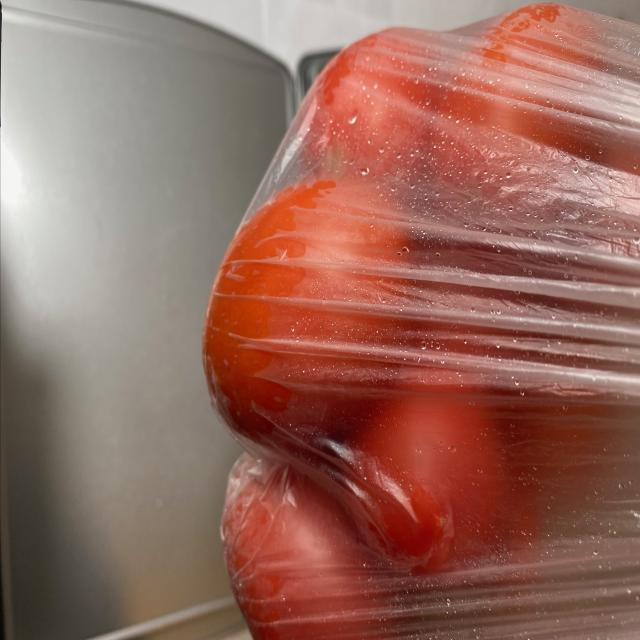tomato: (207, 0, 619, 635)
